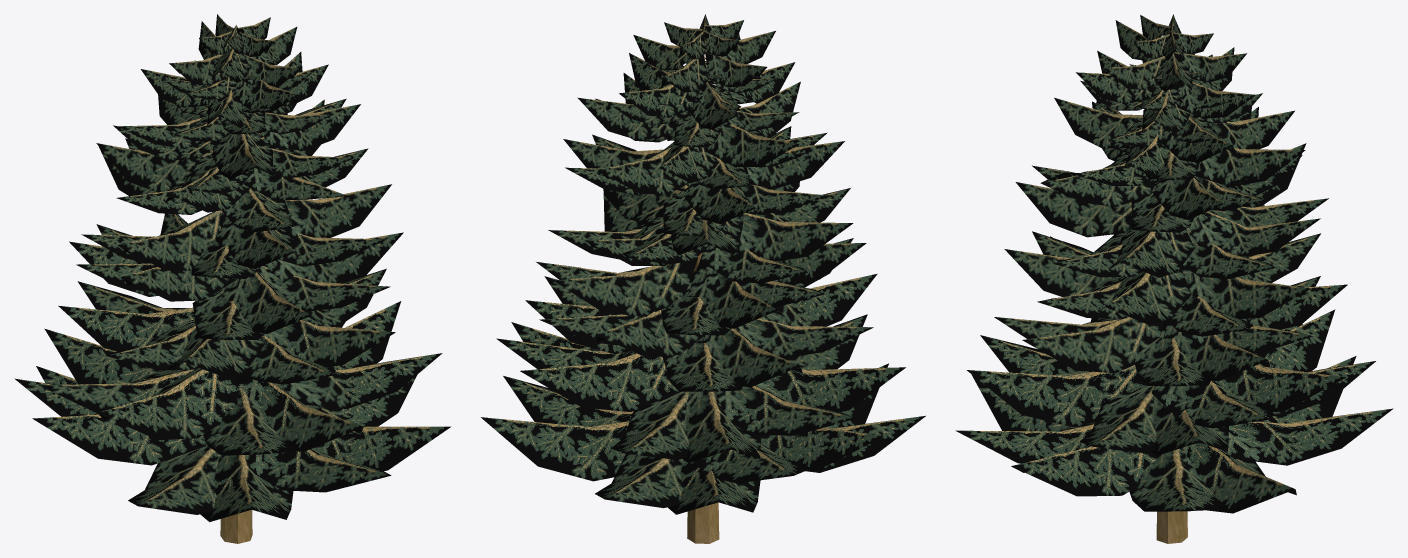
File: model_choinka.fbx
3 views of the same model, side by side, from view 1: azimuth 30°, elevation 25°; view 2: azimuth 150°, elevation 25°; view 3: azimuth 270°, elevation 25° (orthographic).
Visible parts, largest first — view 1: choinka_1; view 2: choinka_1; view 3: choinka_1.
Part boxes in pixels (left/top/right/bottom): choinka_1: left=14, top=14, right=450, bottom=543; choinka_1: left=481, top=14, right=925, bottom=543; choinka_1: left=955, top=14, right=1393, bottom=543.
Size of the model in its own units: 799 by 1025 by 808.
